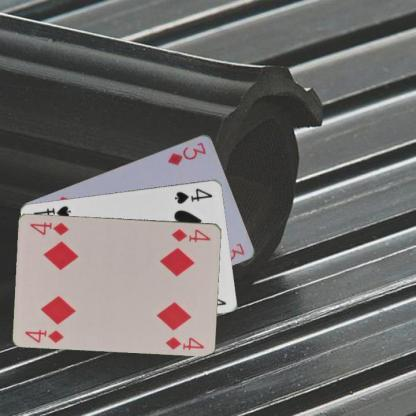3d: (166, 140, 208, 166)
4d: (169, 226, 212, 244), (22, 327, 66, 344)
4s: (172, 186, 214, 204)
